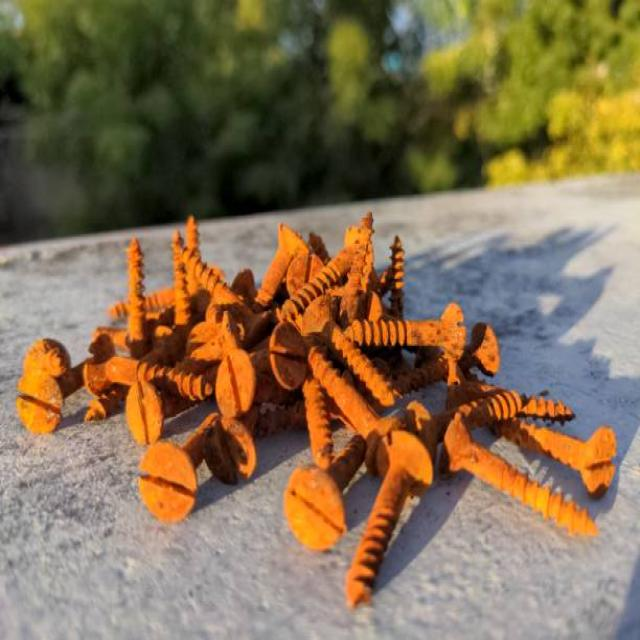Slotted: (133, 435, 201, 528), (278, 466, 346, 550), (201, 418, 262, 484), (17, 374, 67, 437), (580, 431, 626, 499), (268, 320, 310, 392), (124, 379, 168, 444), (213, 350, 255, 418)
